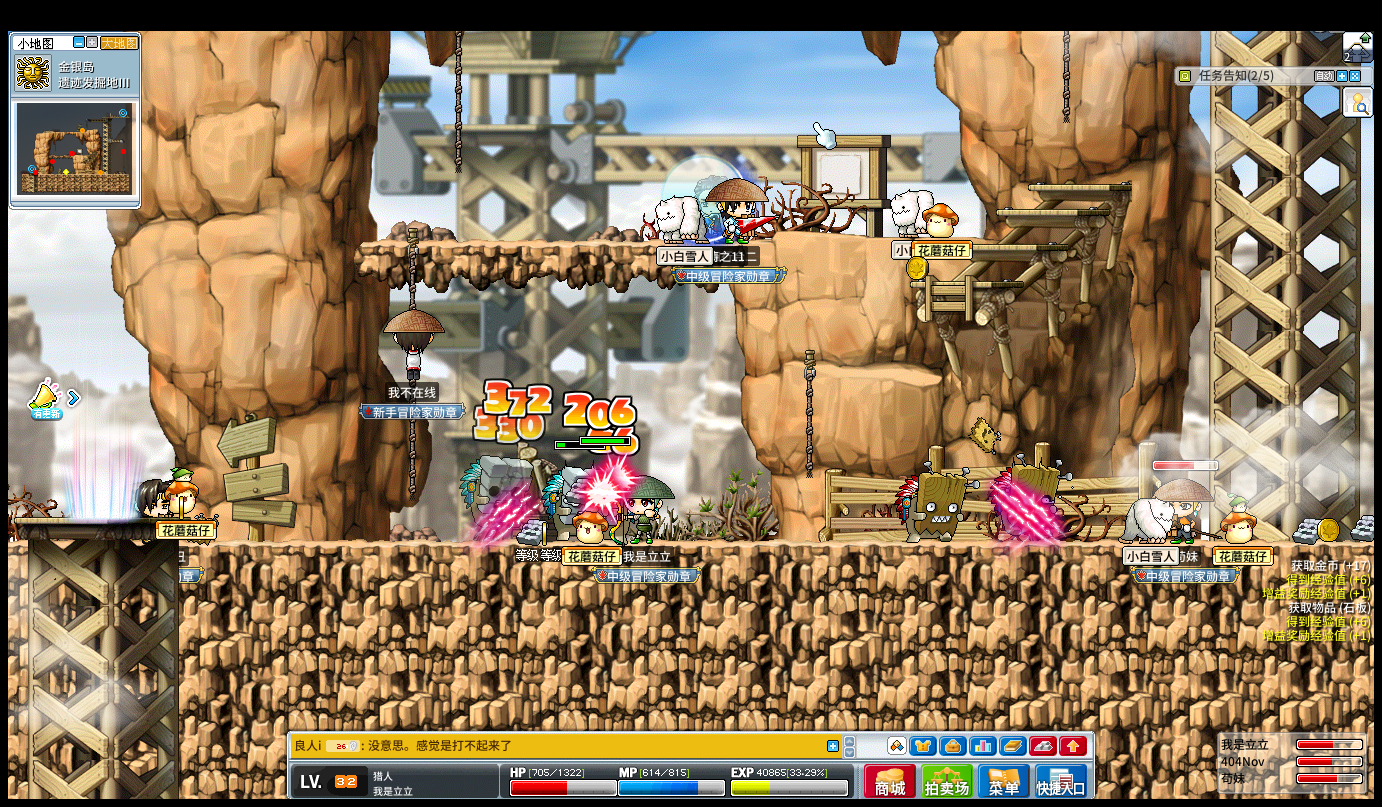floor: (358, 239, 729, 249), (836, 364, 943, 386), (14, 515, 179, 524), (854, 233, 996, 242), (906, 280, 1019, 289), (1028, 184, 1131, 192), (994, 207, 1106, 214), (964, 244, 1069, 249)
monster: (993, 457, 1068, 542), (895, 463, 972, 544), (460, 456, 529, 540), (543, 466, 586, 538)
rope: (803, 348, 815, 481), (454, 29, 462, 169), (405, 228, 417, 310), (405, 420, 414, 507), (1061, 31, 1069, 121)
